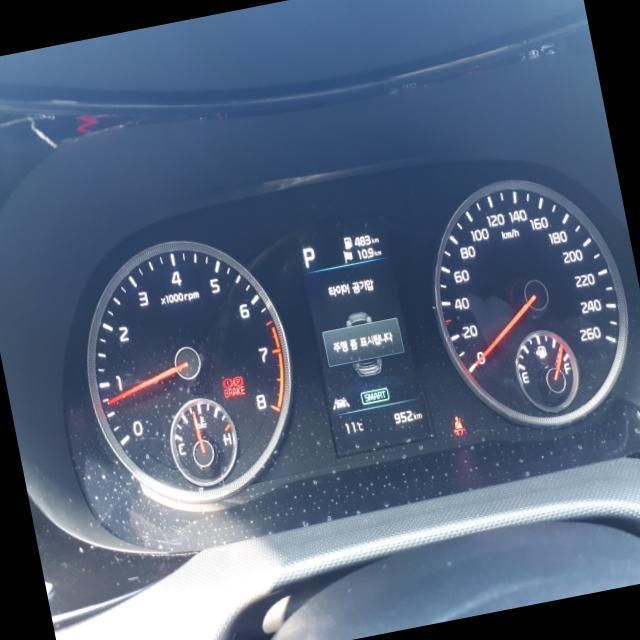LaneCenteringOff: (330, 395, 350, 410)
